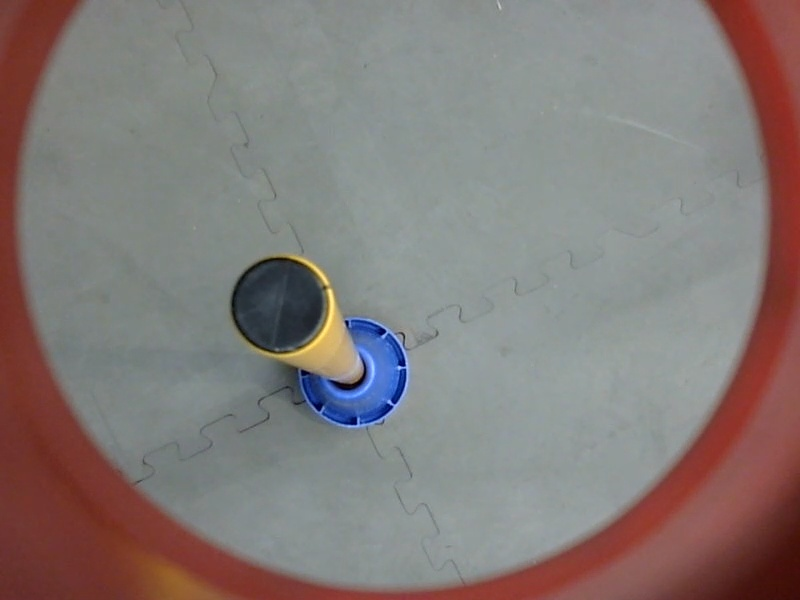tip: (228, 252, 336, 357)
